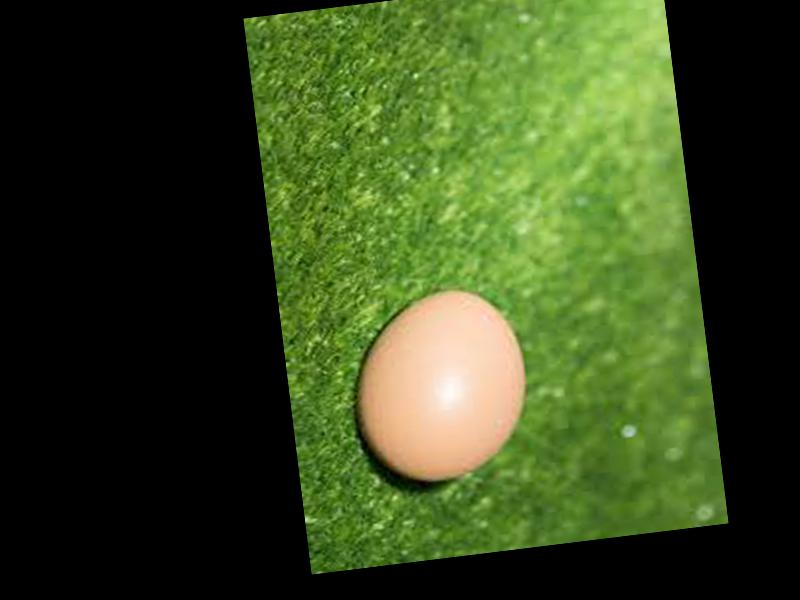Eggs: (342, 280, 534, 491)
